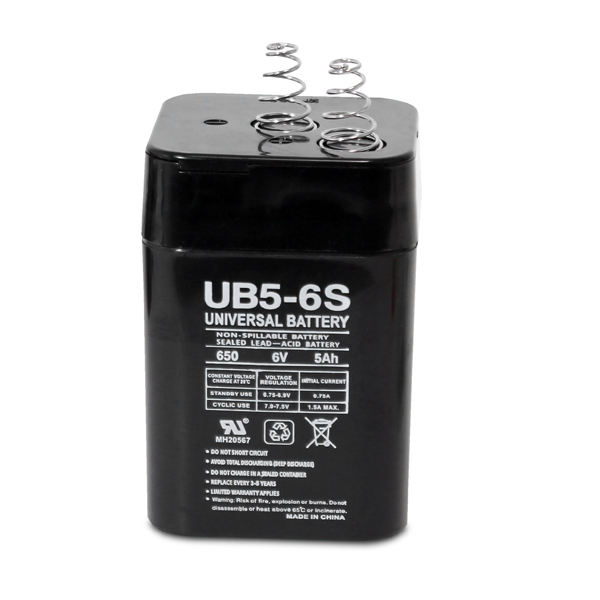6V: (132, 28, 431, 555)
